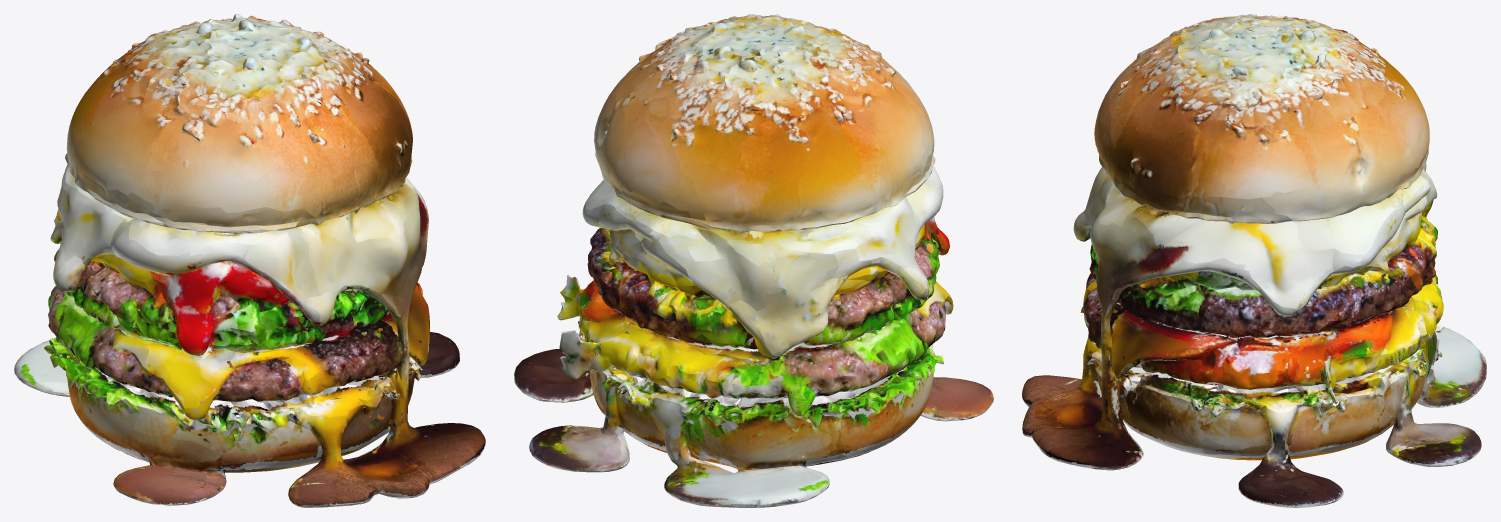
Rendered from text2tex.glb.
The picture shows the model from 3 angles, left to right: view 1: azimuth 30°, elevation 25°; view 2: azimuth 150°, elevation 25°; view 3: azimuth 270°, elevation 25°; orthographic projection. The views are drawn at different scales.
Parts seen in each view (by area): view 1: 9; view 2: 9; view 3: 9.
Part boxes in pixels (x1,y1,x2,y2): 9: (14, 14, 485, 507); 9: (514, 14, 993, 507); 9: (1022, 14, 1486, 507).
Size of the model in its own units: 0.977 by 0.8843 by 1.
1 material, 1 textured.
